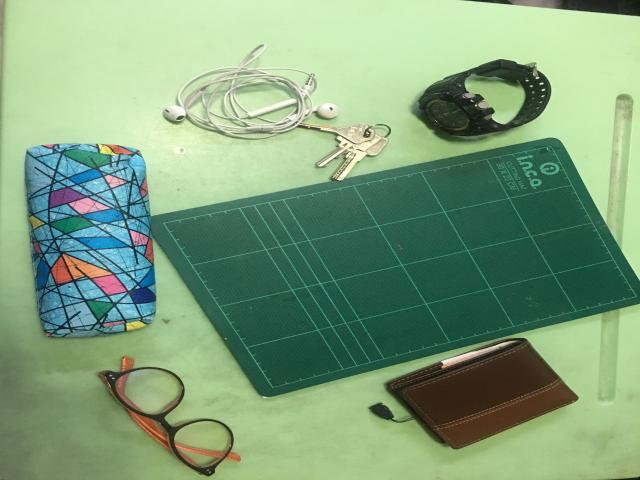Glasses: (98, 357, 240, 476)
Keys: (298, 123, 388, 180)
Wallet: (387, 338, 578, 449)
Watch: (418, 59, 552, 136)
wire: (163, 44, 338, 139)
